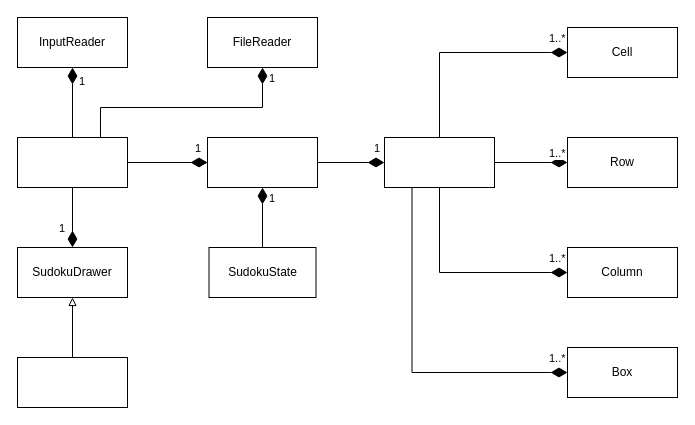
Some shapes in this 695 by 425 pixel diagram are drawn without their labels. Each missing label, with the centre of its shape:
"<<Interface>> IConsoleDrawer" belongs at [72,382].
"Board" belongs at [439,162].
"Sudoku" belongs at [262,162].
"UI" belongs at [72,162].
